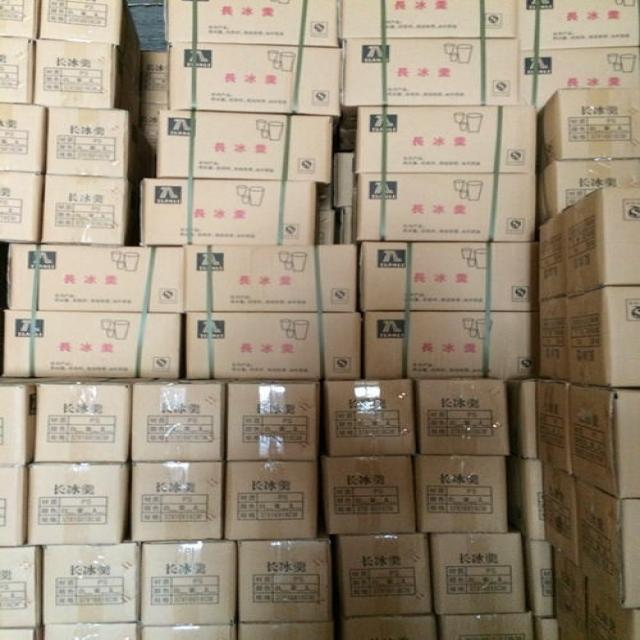box: (152, 110, 334, 183), (166, 43, 342, 116), (140, 177, 319, 248), (361, 241, 539, 312), (340, 38, 521, 107), (6, 243, 183, 313), (355, 174, 538, 241), (356, 106, 538, 173), (183, 243, 357, 313), (184, 312, 361, 380), (361, 312, 540, 379), (1, 312, 182, 378), (33, 40, 140, 127), (573, 477, 640, 608), (161, 0, 340, 48), (561, 186, 639, 296), (26, 463, 127, 546), (538, 87, 640, 169), (568, 383, 640, 499), (141, 540, 237, 627), (431, 533, 529, 616), (338, 533, 433, 617), (44, 543, 141, 625), (238, 540, 332, 624), (46, 107, 155, 179), (32, 383, 129, 462), (566, 286, 640, 387), (324, 457, 417, 535), (520, 48, 640, 108), (131, 462, 221, 542), (132, 383, 223, 462), (417, 455, 509, 533), (416, 380, 509, 457), (224, 462, 317, 539), (227, 385, 319, 462), (326, 380, 416, 457), (339, 0, 520, 38), (538, 158, 640, 225), (38, 0, 141, 65), (40, 175, 128, 246), (520, 0, 640, 49), (541, 460, 580, 568), (586, 574, 640, 639), (0, 546, 42, 628), (536, 377, 571, 473), (0, 104, 46, 174), (0, 378, 36, 467), (0, 171, 42, 244), (554, 552, 586, 637), (440, 612, 535, 639), (538, 296, 567, 381), (538, 211, 564, 303), (0, 467, 29, 548), (340, 615, 436, 639), (0, 37, 33, 105), (530, 542, 556, 618), (525, 458, 544, 540), (141, 51, 169, 106), (44, 623, 140, 639), (239, 623, 334, 639), (140, 105, 170, 148), (522, 380, 538, 459), (141, 626, 237, 639), (334, 154, 357, 207), (315, 209, 338, 244), (0, 628, 42, 640), (539, 618, 561, 639)
